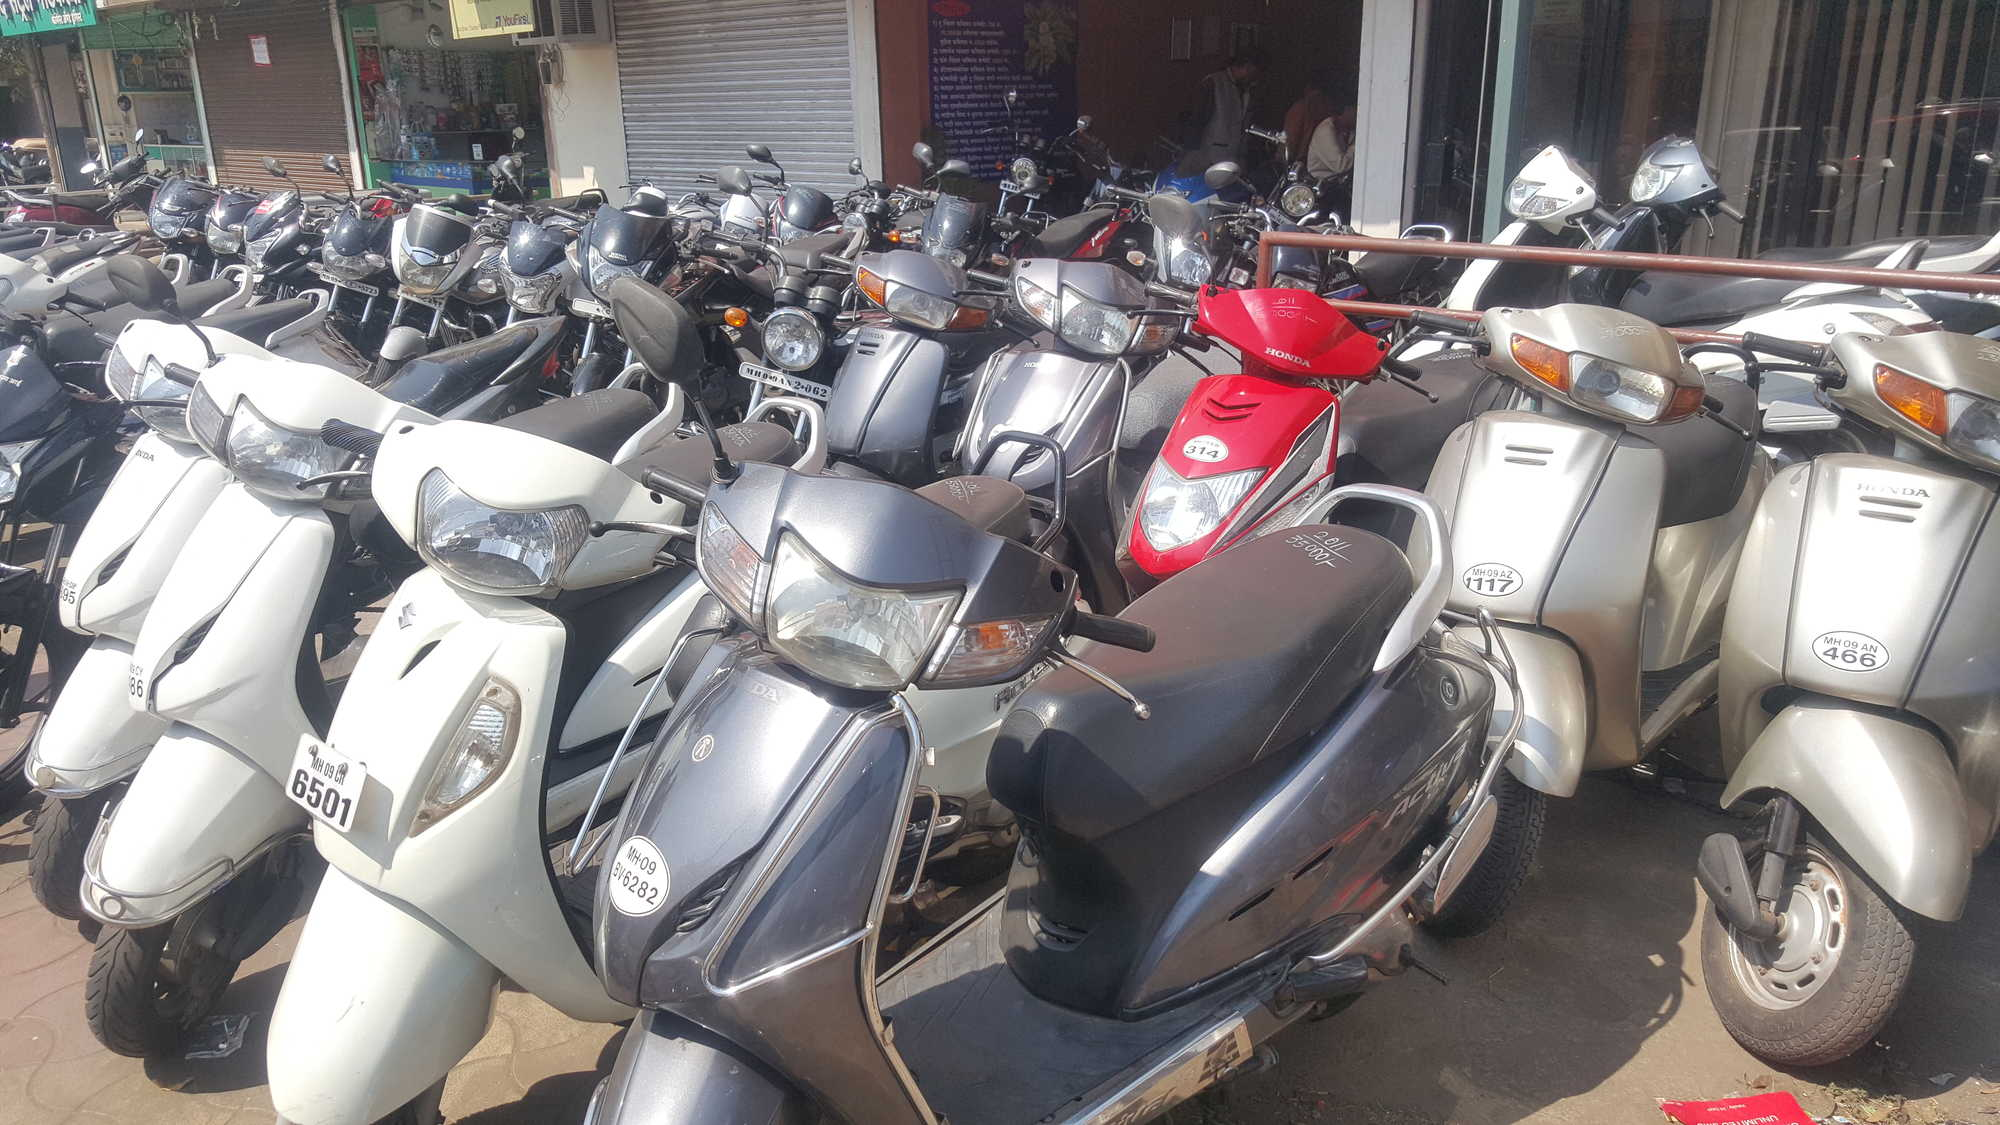Bike: (670, 486, 1023, 1125), (323, 424, 646, 1069), (1768, 353, 2000, 1014), (1466, 323, 1698, 843), (984, 264, 1168, 529)
